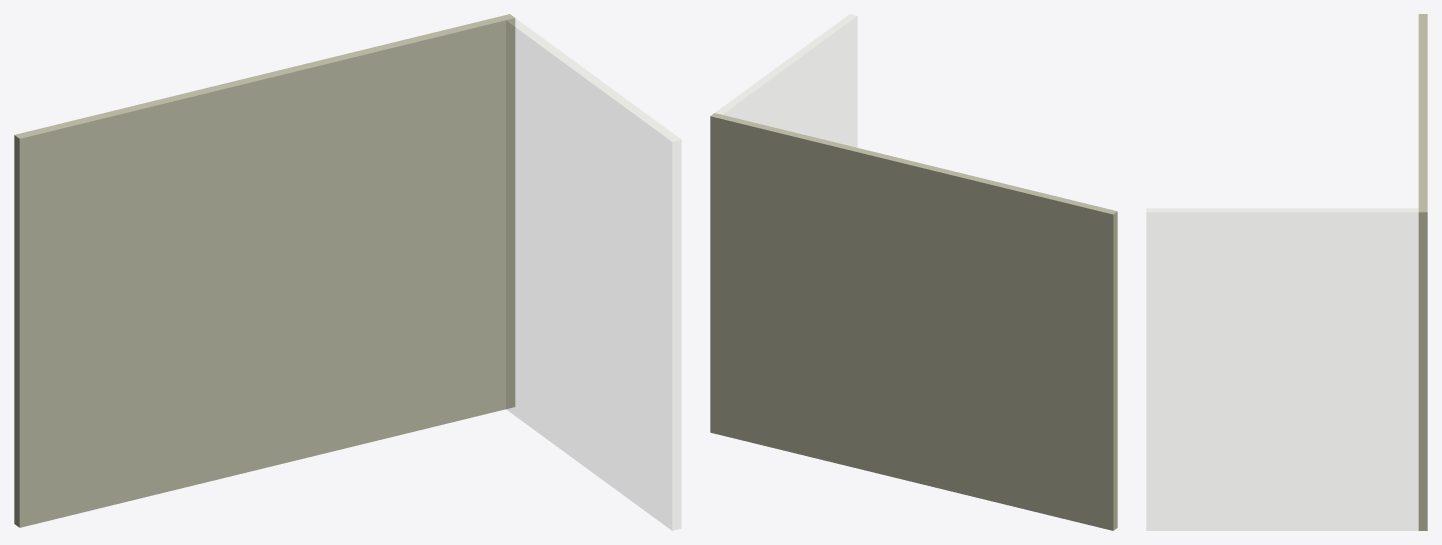
The model's file is TestGltf4Transparency.gltf.
The picture shows the model from 3 angles, left to right: view 1: azimuth 30°, elevation 25°; view 2: azimuth 150°, elevation 25°; view 3: azimuth 270°, elevation 25°; orthographic projection. The views are drawn at different scales.
Visible parts, largest first — view 1: {9B914EC8-FF25-4add-834C-FE20E21041BC}_Node, {E1248EB0-9B30-49e5-A715-3F4185C9F774}_Node; view 2: {9B914EC8-FF25-4add-834C-FE20E21041BC}_Node, {E1248EB0-9B30-49e5-A715-3F4185C9F774}_Node; view 3: {E1248EB0-9B30-49e5-A715-3F4185C9F774}_Node, {9B914EC8-FF25-4add-834C-FE20E21041BC}_Node.
Part boxes in pixels (x1,y1,x2,y2): {9B914EC8-FF25-4add-834C-FE20E21041BC}_Node: [14, 14, 515, 527]; {E1248EB0-9B30-49e5-A715-3F4185C9F774}_Node: [505, 16, 681, 530]; {9B914EC8-FF25-4add-834C-FE20E21041BC}_Node: [710, 113, 1117, 530]; {E1248EB0-9B30-49e5-A715-3F4185C9F774}_Node: [711, 14, 857, 432]; {E1248EB0-9B30-49e5-A715-3F4185C9F774}_Node: [1146, 208, 1426, 530]; {9B914EC8-FF25-4add-834C-FE20E21041BC}_Node: [1418, 14, 1427, 530].
Size of what is drawn, in the model's own units: 1 by 0.75 by 0.6.
